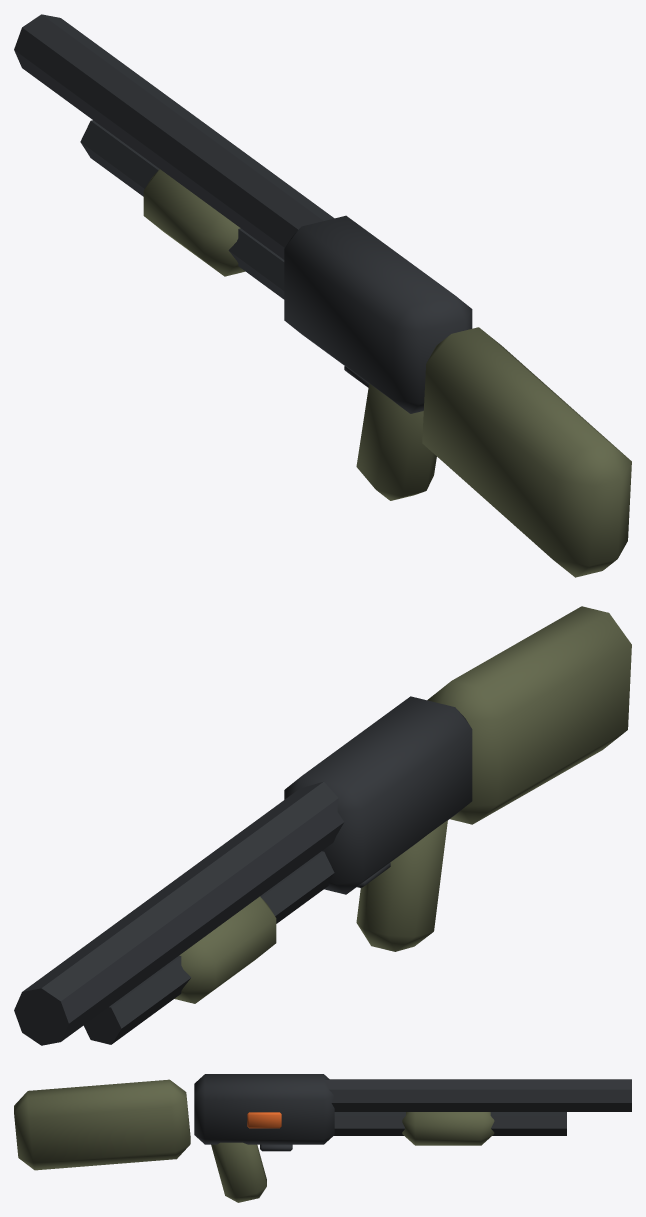
File: weapon_shotgun.glb
3 views of the same model, one above another, from view 1: azimuth 30°, elevation 25°; view 2: azimuth 150°, elevation 25°; view 3: azimuth 270°, elevation 25° (orthographic). The views are drawn at different scales.
Visible parts, largest first — view 1: weapon_shotgun; view 2: weapon_shotgun; view 3: weapon_shotgun.
Boxes of the visible parts, x1,y1,x2,y2 form: weapon_shotgun: (14,14,631,577); weapon_shotgun: (14,606,631,1045); weapon_shotgun: (14,1074,631,1202).
Size of the model in its own units: 0.0612 by 0.1528 by 0.7146.
1 material, 1 textured.
